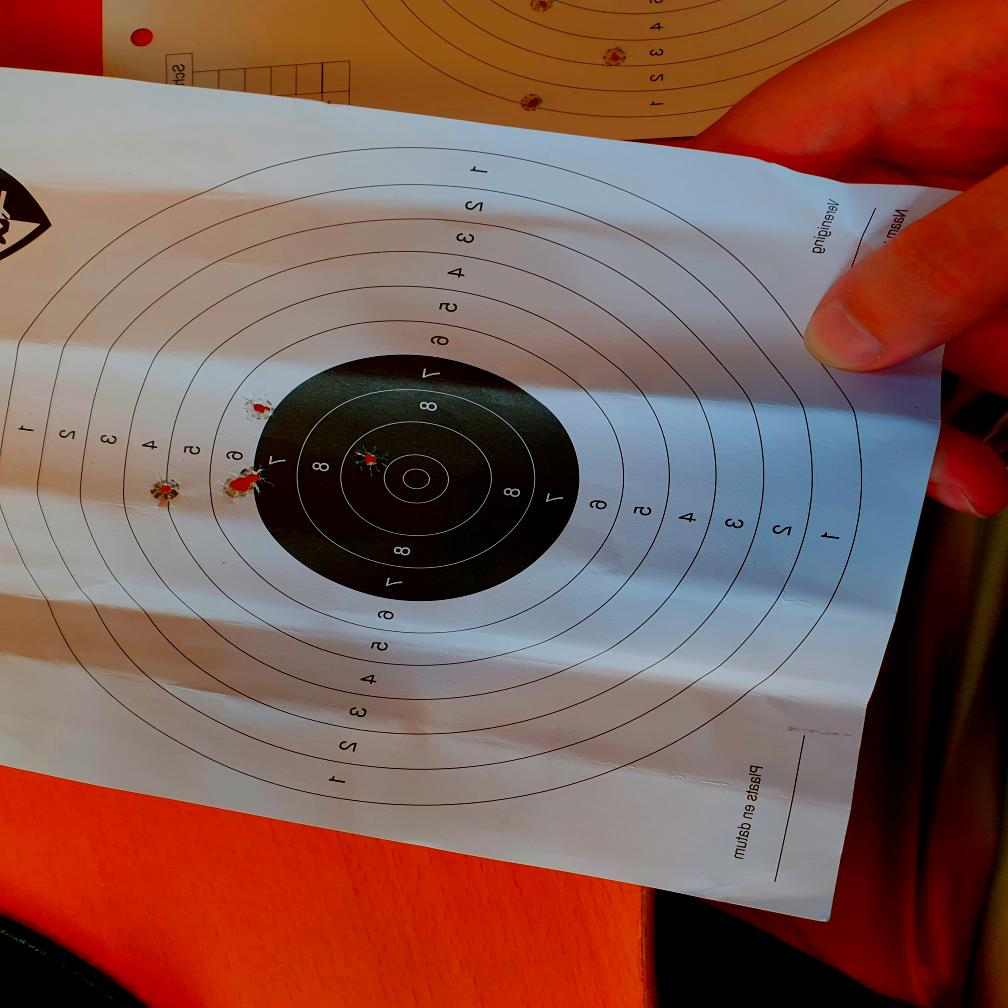5: (142, 473, 186, 504)
6: (216, 478, 253, 501)
7: (239, 398, 279, 424), (242, 461, 272, 486)
9: (345, 447, 388, 471)
Target: (0, 147, 859, 805)
black_contour: (254, 355, 580, 601)
